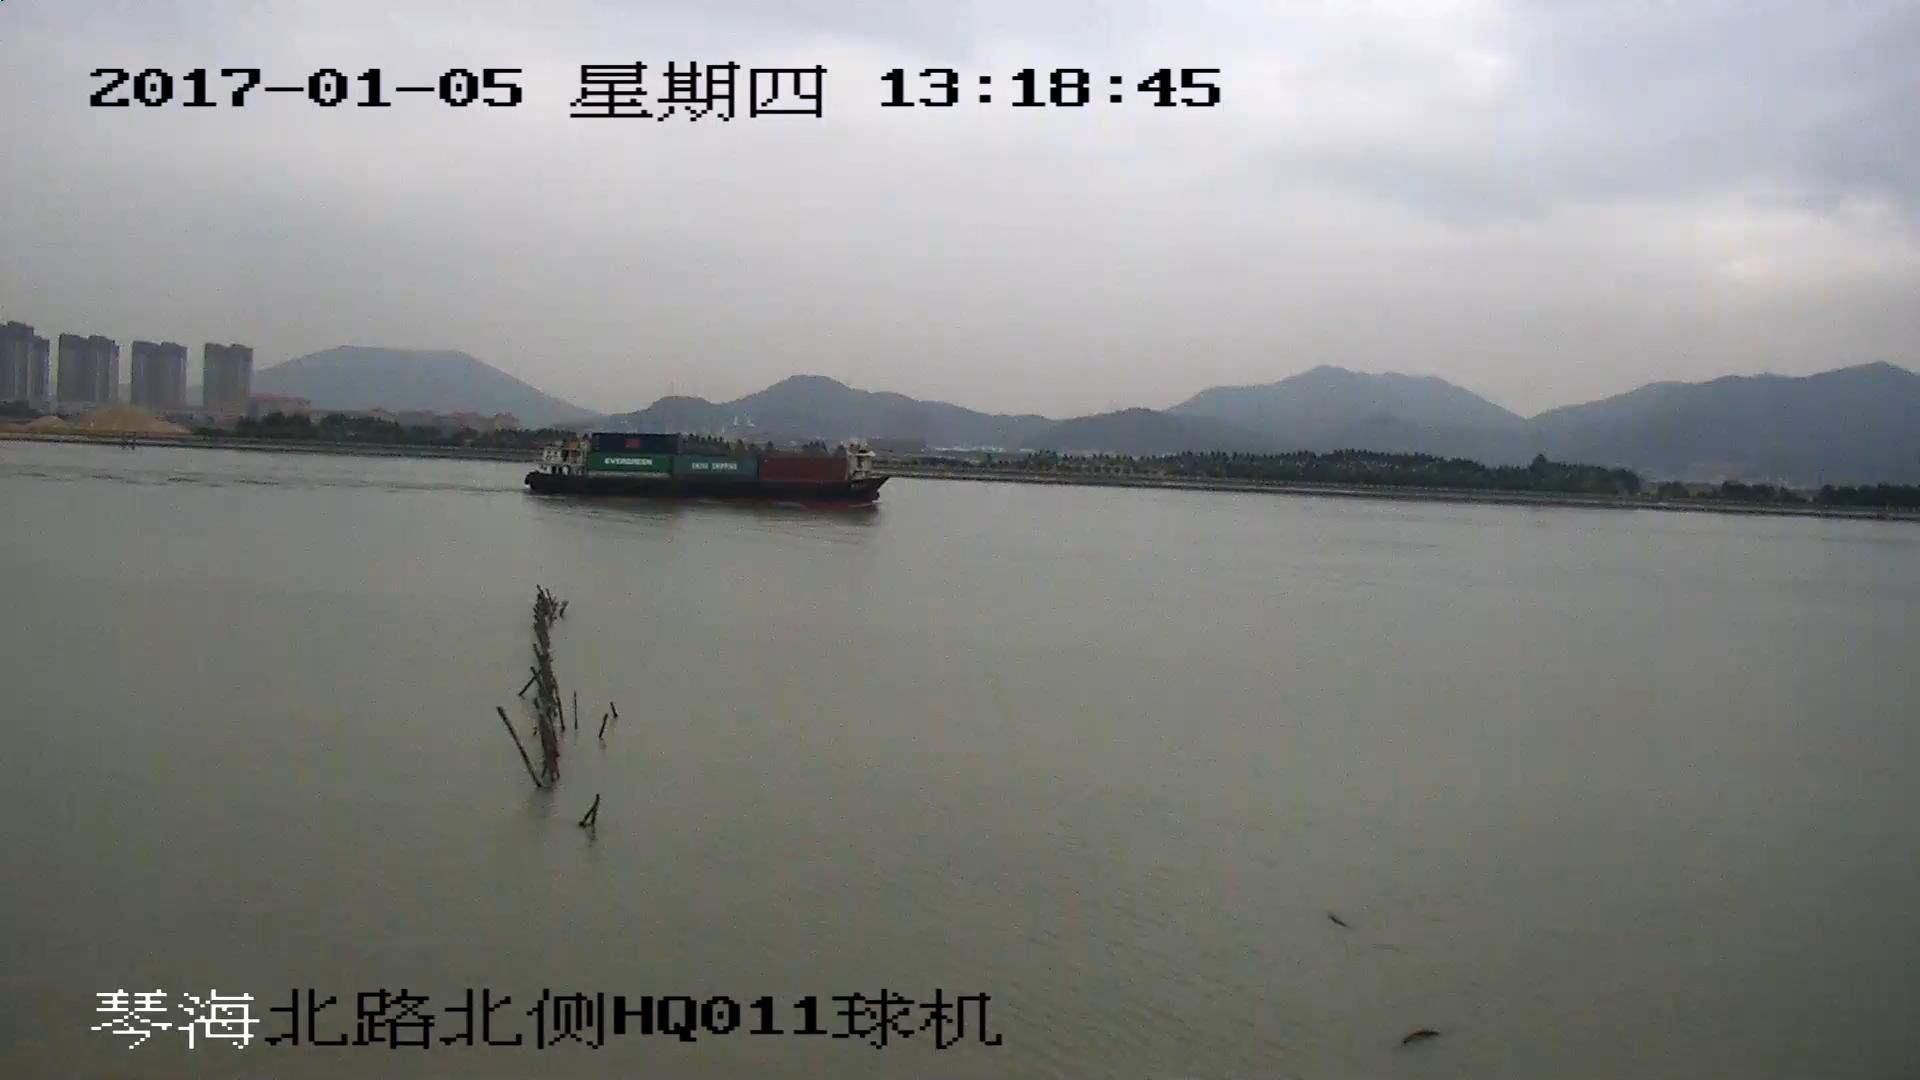container ship: (520, 436, 890, 508)
